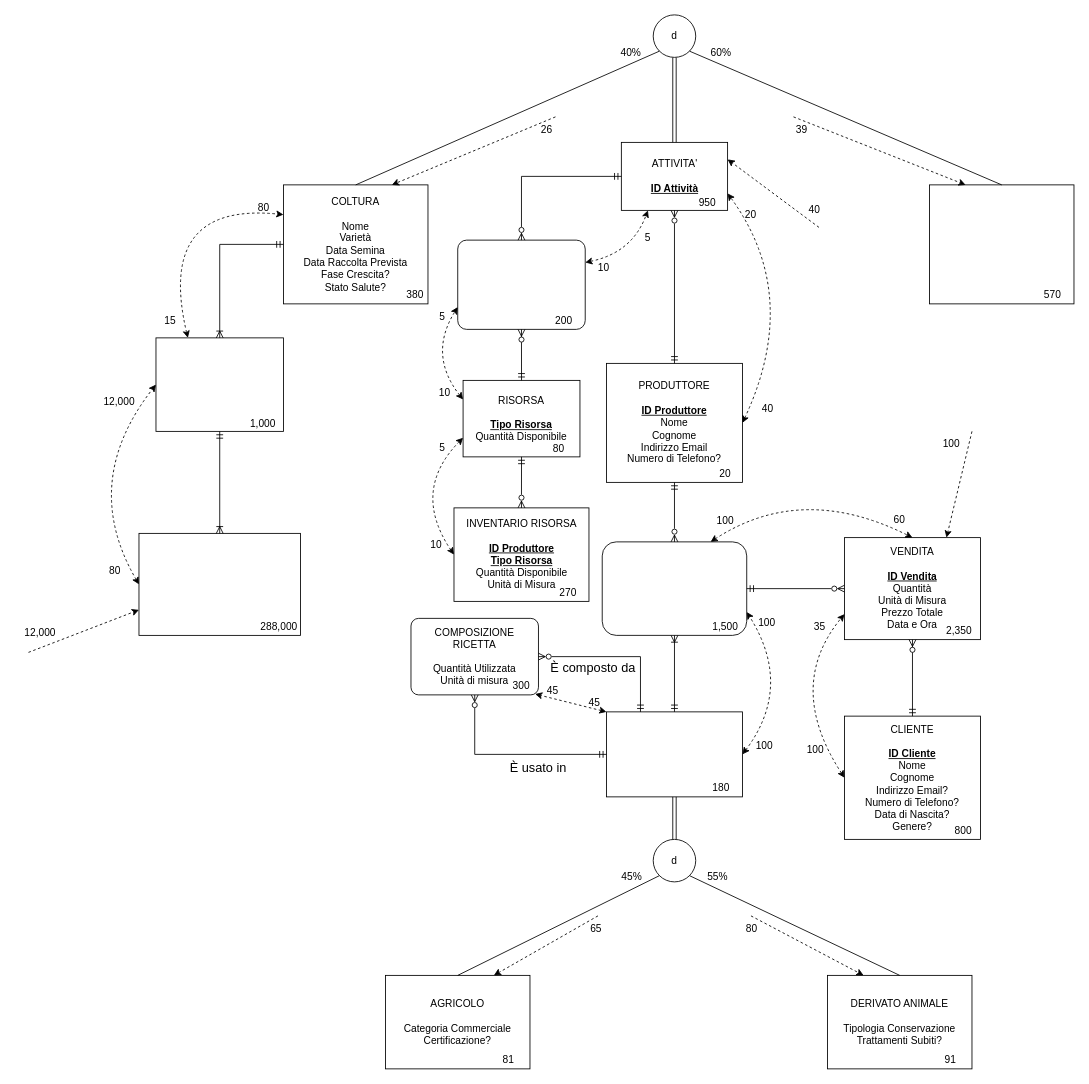
The diagram is 1089 pixels wide and 1084 high, and some of its shapes have lost their labels. Here are the shapes that lost their labels. From the top down, the box of each, then its label:
(929, 184, 1074, 304): BESTIAME Specie Razza Numero Capi Stato Salute Data Ultimo Controllo?
(457, 239, 585, 329): USO RISORSA ID Uso Quantità Usata Unità di Misura Data e Ora
(155, 337, 283, 431): SENSORE ID Sensore Tipo Sensore Data Installazione
(138, 533, 300, 635): RILEVAZIONE AMBIENTALE ID Sensore Data e Ora Condizione Misurazione
(601, 541, 747, 635): SCORTA Quantità Disponibile Data Aggiornamento
(606, 711, 742, 797): PRODOTTO ID Prodotto Nome
